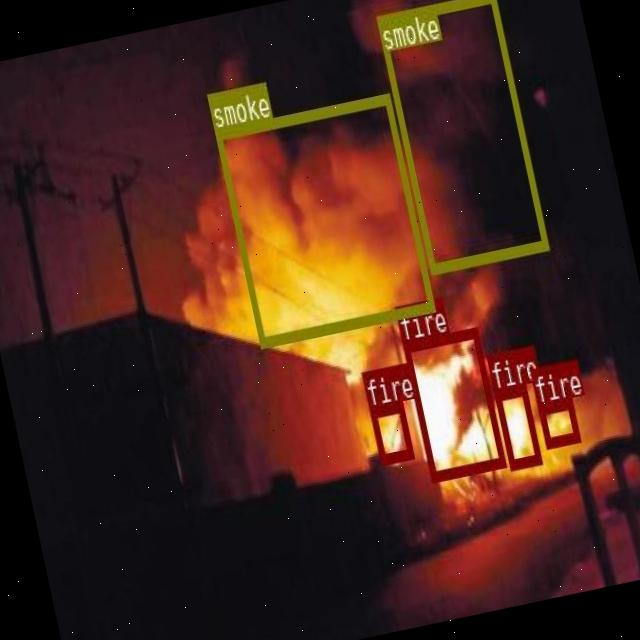fire: (401, 324, 505, 480), (492, 382, 540, 469), (368, 401, 412, 463), (536, 397, 578, 446)
smoke: (213, 92, 433, 346), (375, 0, 548, 272)
